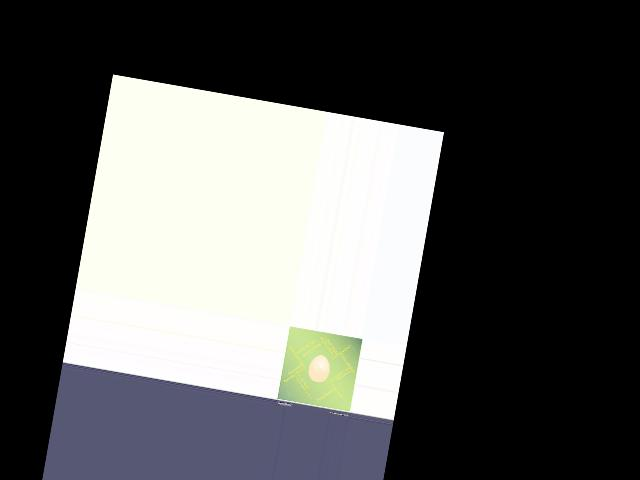egg: (307, 354, 332, 383)
